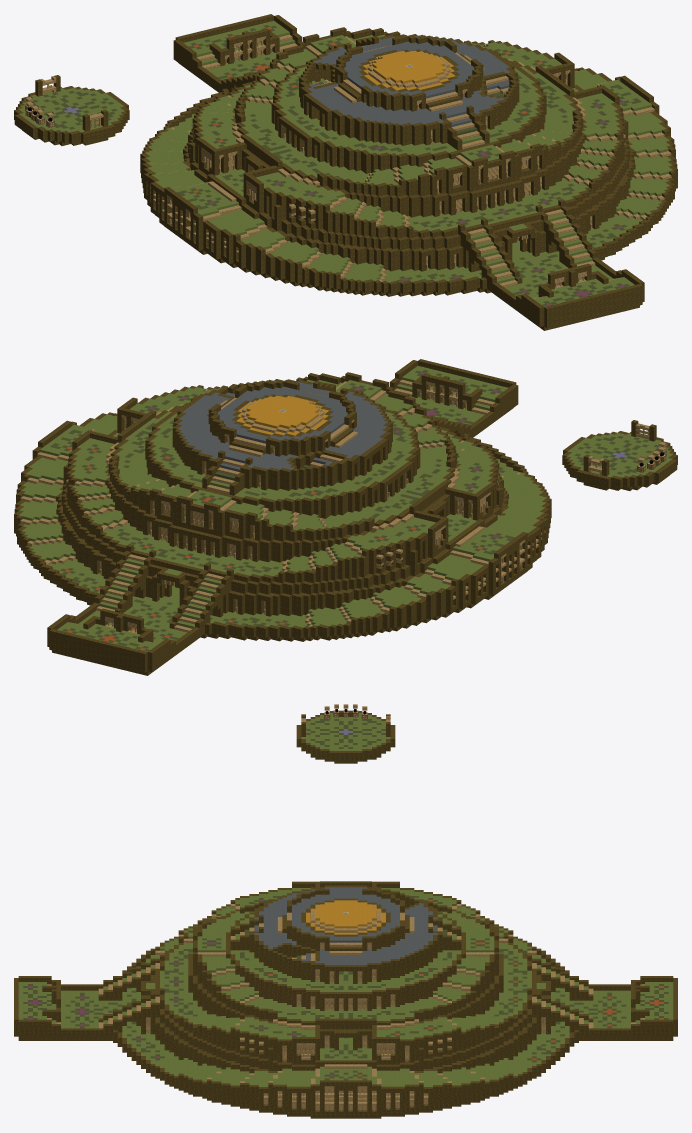
Rendered from minecraft.obj.
3 views of the same model, one above another, from view 1: azimuth 30°, elevation 25°; view 2: azimuth 150°, elevation 25°; view 3: azimuth 270°, elevation 25° (orthographic). The views are drawn at different scales.
Size of the model in its own units: 135 by 41 by 141.
